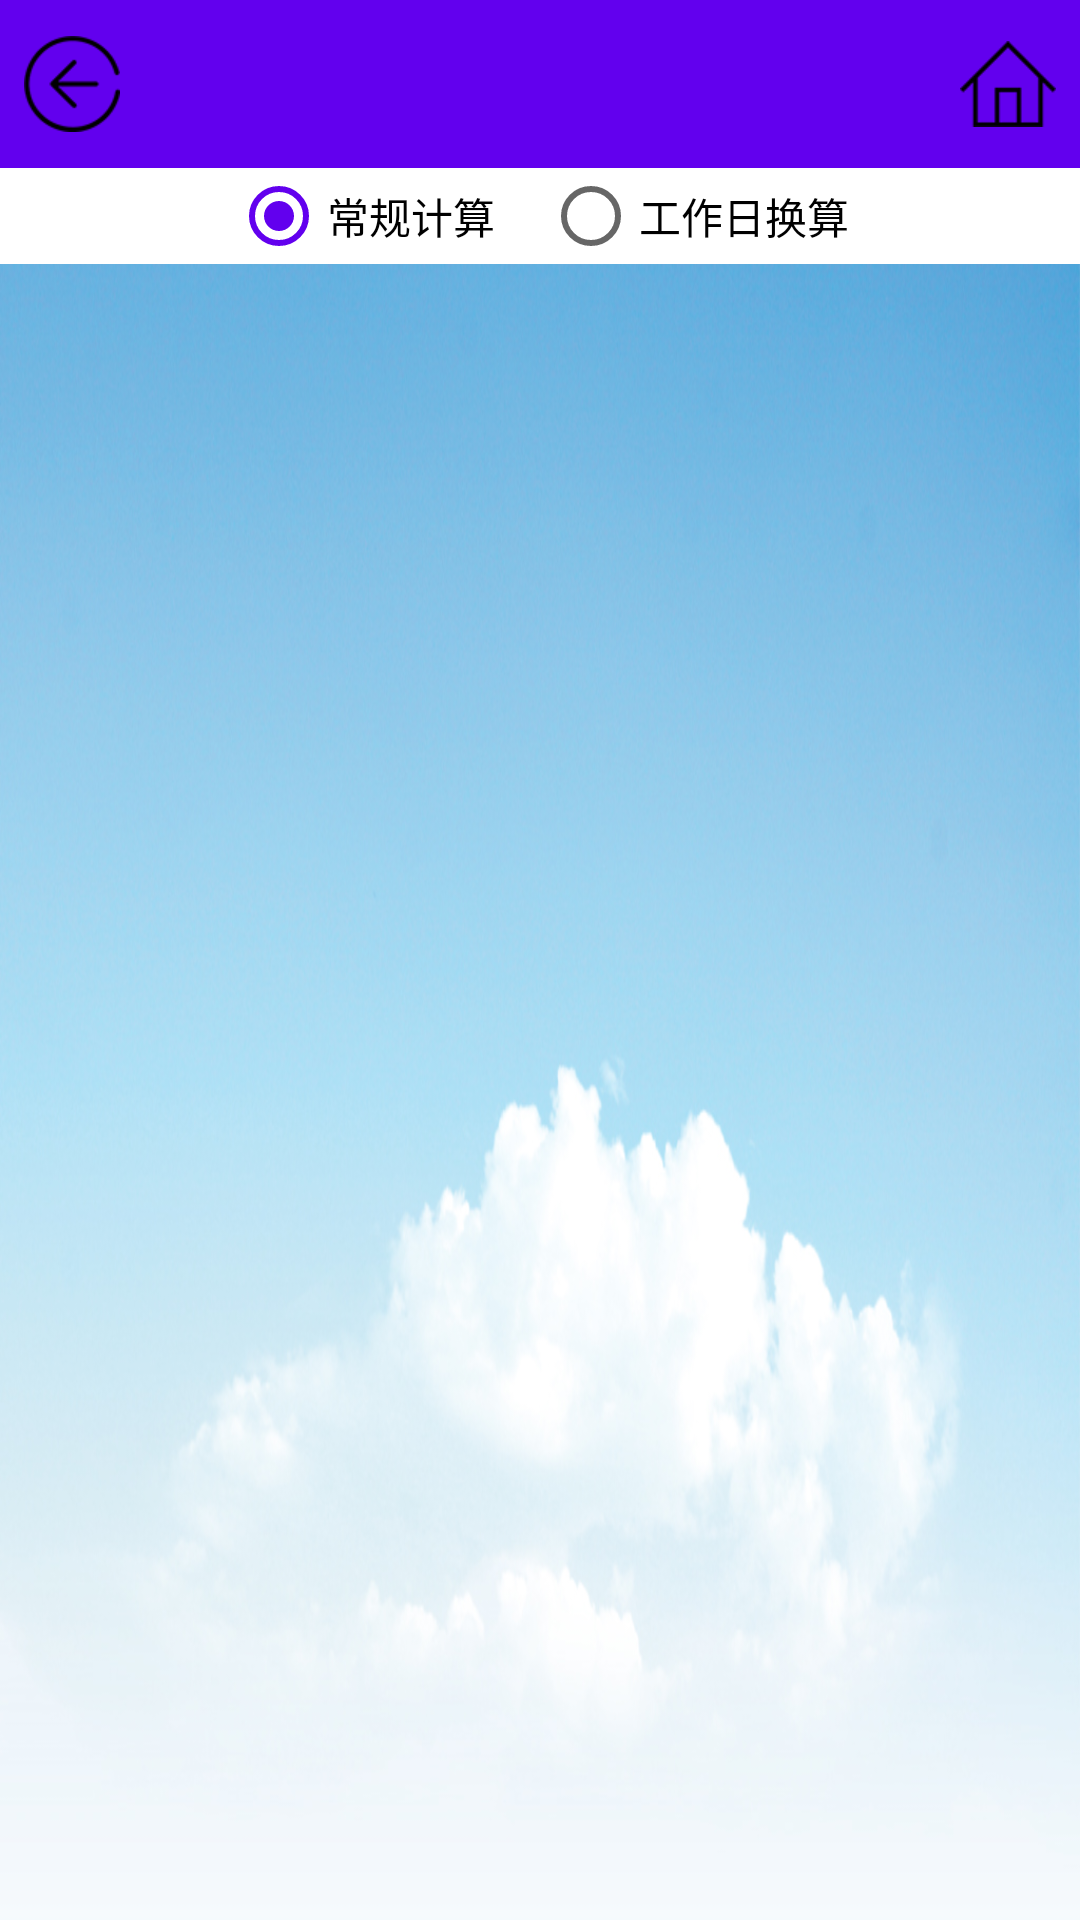

Where to tap for icons on this 1080 x 1920 app screen, as (x=x, y=y):
backs: (x=72, y=84)
homes: (x=1008, y=84)
